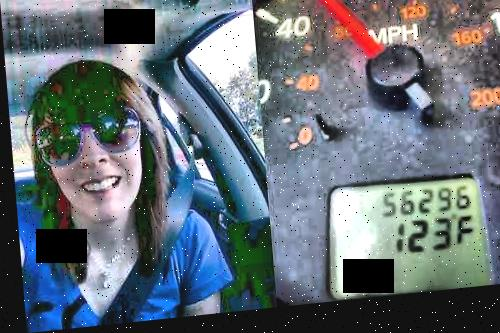seatbelt: (83, 150, 214, 312)
